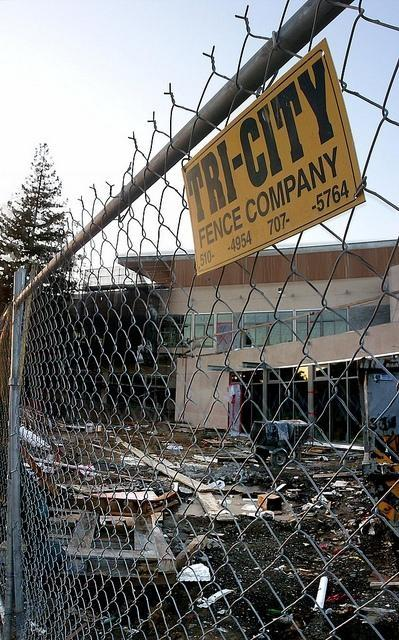truck: (248, 418, 310, 468)
